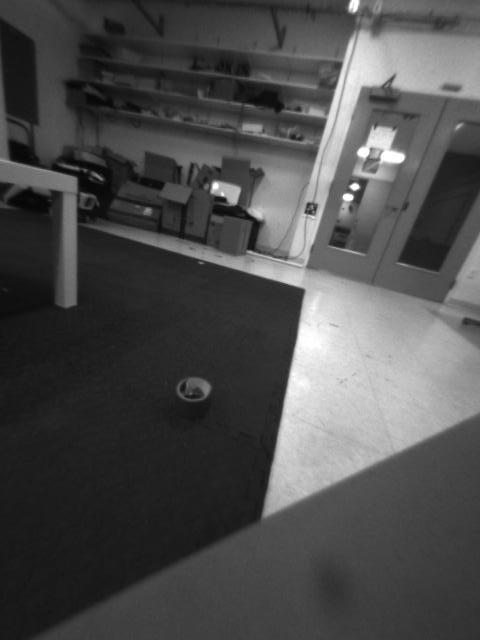dogtoy: (153, 371, 227, 416)
